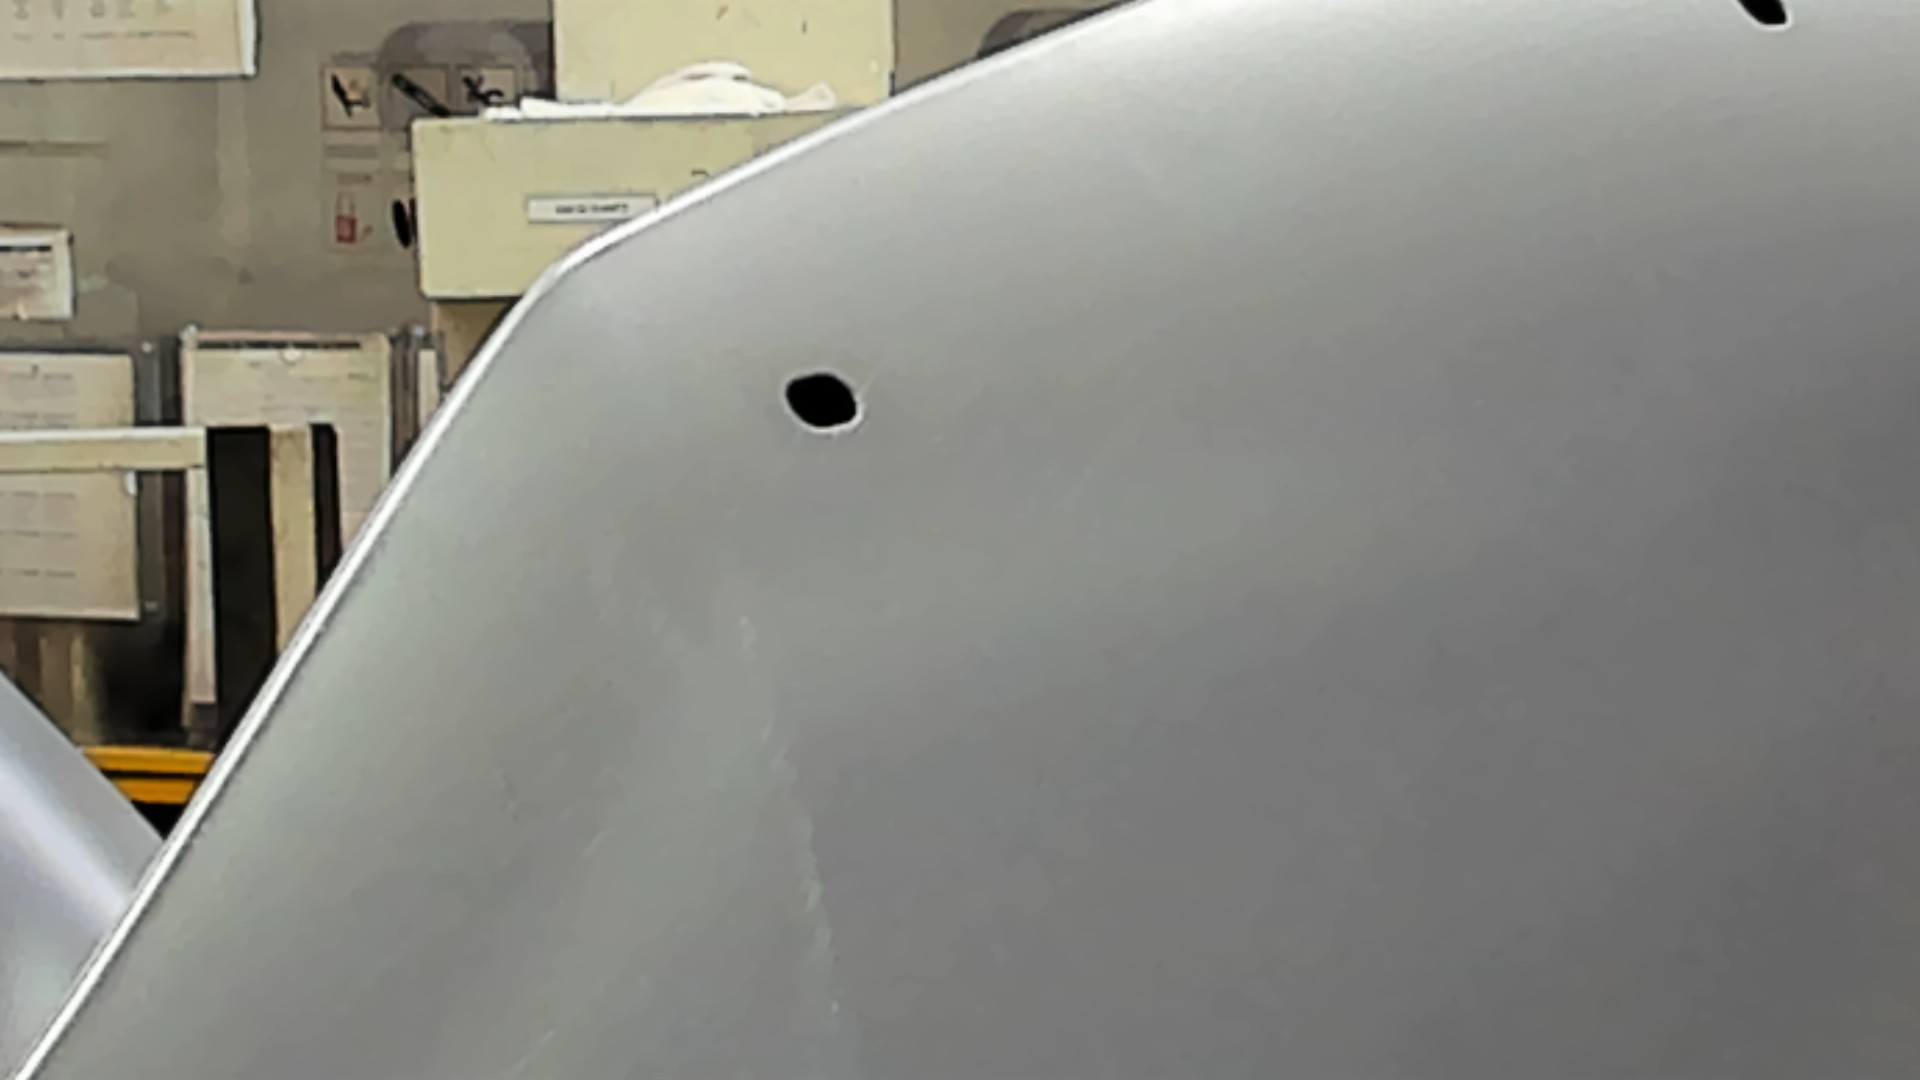amorfo: (785, 371, 861, 433), (1734, 1, 1796, 32)
